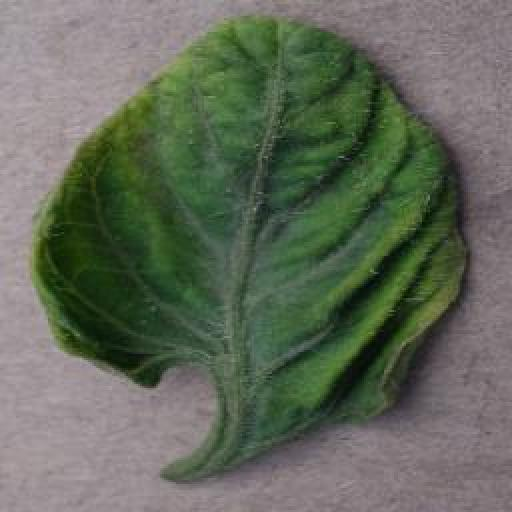Yellow Leaf Curl Virus: (29, 14, 472, 454)
